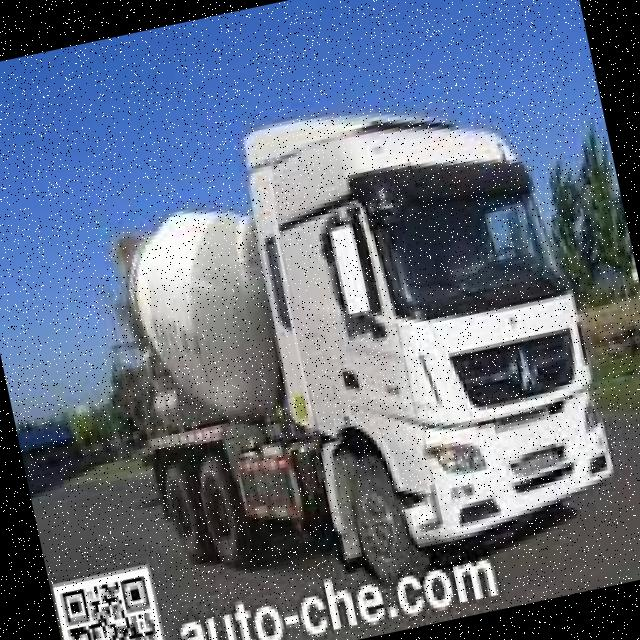Mixer Truck: (60, 66, 630, 632)
